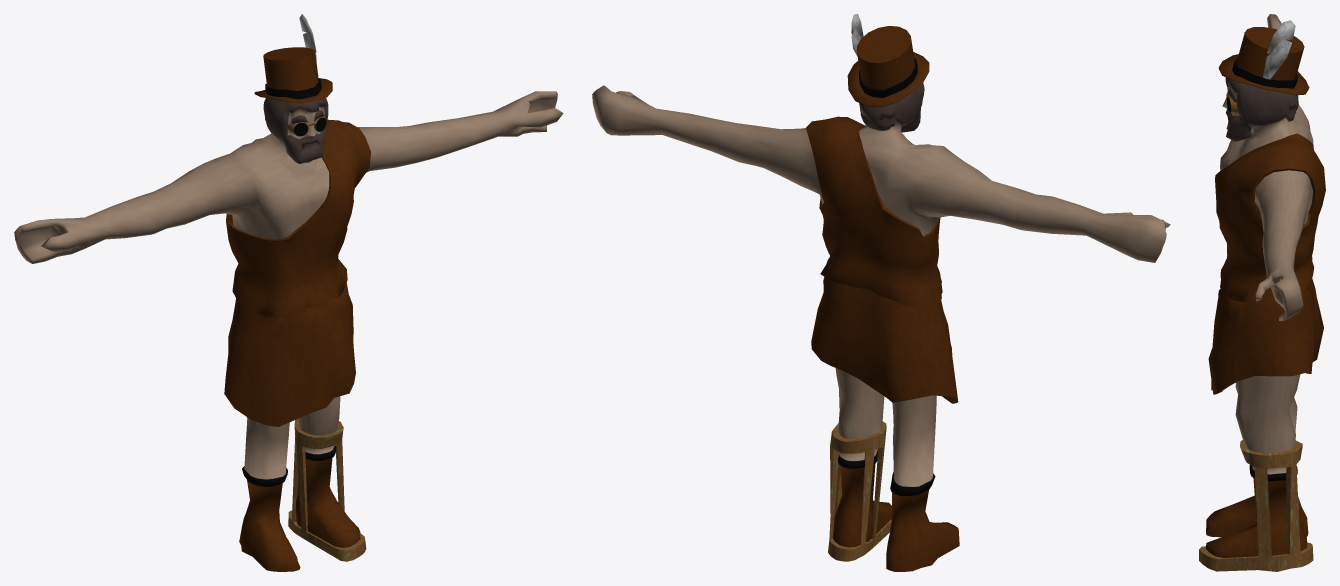
File: Hephaestus.fbx
3 views of the same model, side by side, from view 1: azimuth 30°, elevation 25°; view 2: azimuth 150°, elevation 25°; view 3: azimuth 270°, elevation 25° (orthographic). The views are drawn at different scales.
Parts seen in each view (by area): view 1: Hephaestus; view 2: Hephaestus; view 3: Hephaestus.
Boxes of the visible parts, <box> form: Hephaestus: <box>14,14,563,571</box>; Hephaestus: <box>592,14,1170,571</box>; Hephaestus: <box>1199,14,1325,571</box>.
Bounding box in the file's own units: 2.32 × 2.09 × 0.4485.
